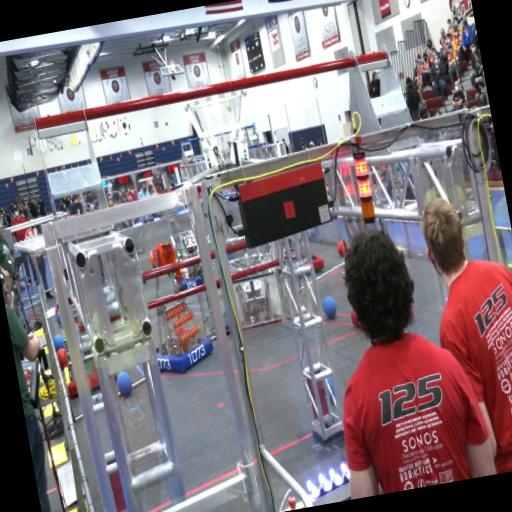robot: (152, 313, 211, 374), (174, 272, 200, 290)
